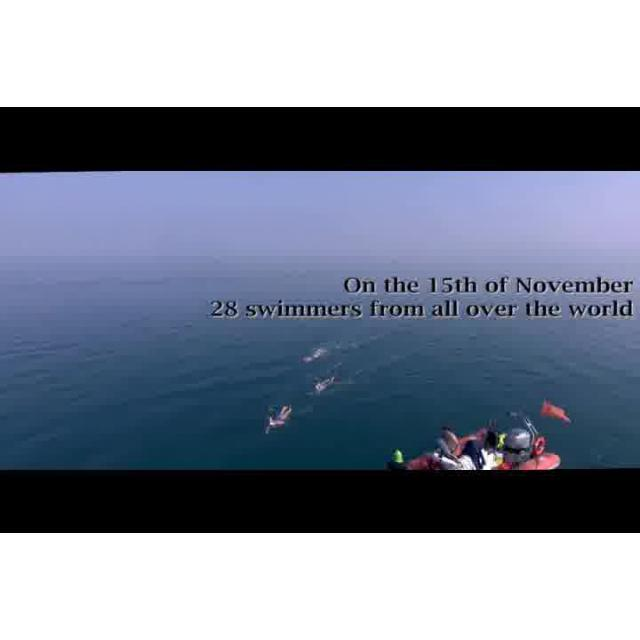human: (264, 407, 293, 434), (311, 375, 336, 395)
